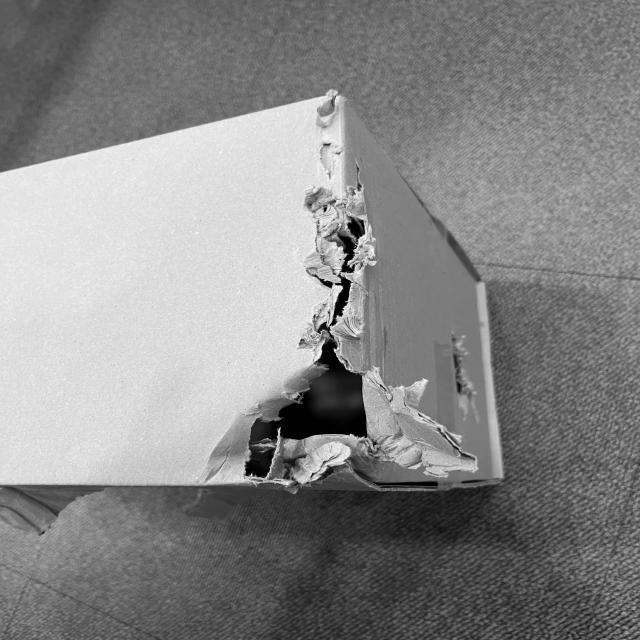hole: (229, 216, 375, 492)
